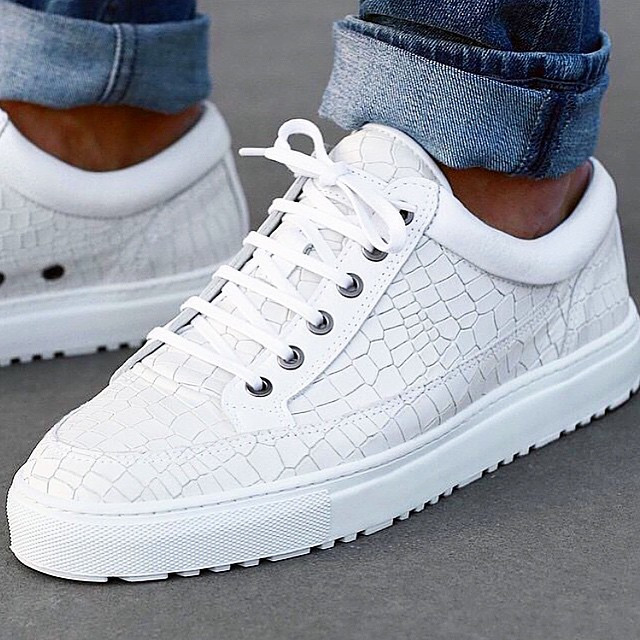sneaker: (1, 78, 640, 605), (1, 68, 273, 374)
